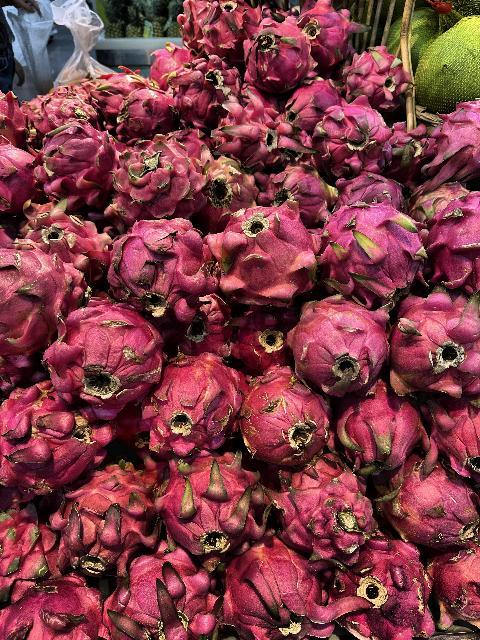buah-naga-belum-matang: (10, 202, 120, 286), (193, 146, 260, 227), (422, 545, 480, 637), (404, 179, 474, 217)
buah-naga-matang: (214, 542, 370, 640), (50, 298, 168, 416), (200, 205, 329, 312), (321, 528, 441, 640), (0, 379, 116, 489), (42, 469, 163, 571), (313, 201, 429, 303), (1, 230, 92, 360), (154, 456, 272, 554), (100, 546, 222, 640), (107, 228, 224, 320), (366, 458, 480, 552), (286, 296, 392, 396), (266, 462, 376, 558), (147, 350, 248, 454), (237, 363, 333, 469), (329, 378, 429, 472), (394, 293, 480, 401), (206, 101, 316, 172), (0, 568, 106, 640), (111, 143, 208, 221), (0, 504, 72, 606), (35, 122, 120, 204), (307, 108, 403, 176), (414, 392, 480, 484), (416, 104, 480, 188), (240, 20, 316, 90), (160, 64, 246, 124), (339, 48, 415, 112), (106, 90, 184, 138)
